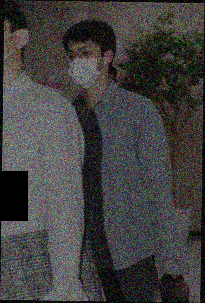with_mask: (68, 43, 105, 91)
